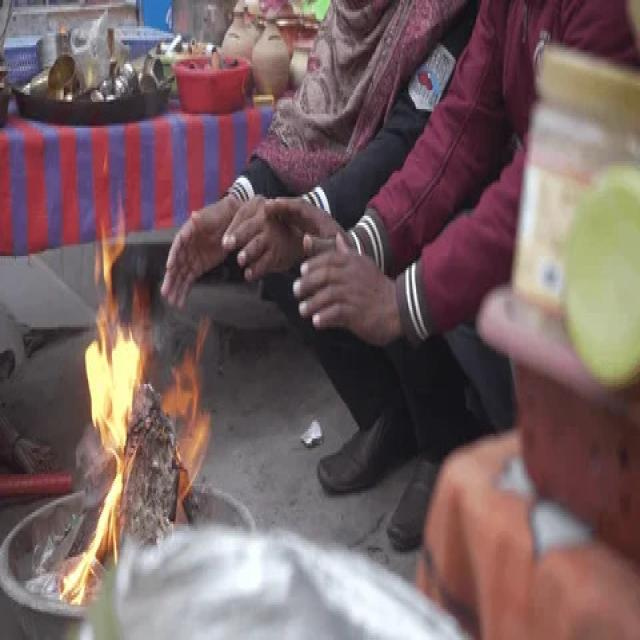fire: (56, 215, 211, 599)
